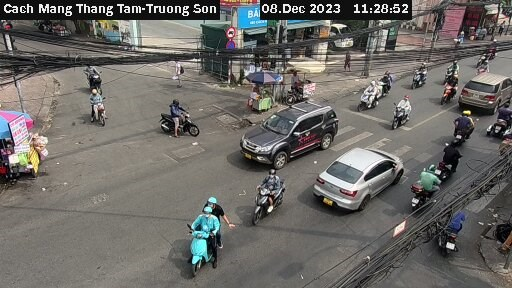car: (239, 98, 335, 170), (313, 145, 404, 213), (456, 70, 511, 114)
motorbike: (405, 163, 449, 214), (243, 178, 300, 216), (182, 218, 224, 267), (428, 142, 471, 186), (75, 97, 134, 128), (443, 109, 482, 148), (162, 109, 205, 144), (74, 66, 114, 97), (439, 213, 469, 254), (387, 99, 421, 134), (355, 84, 387, 121), (406, 58, 433, 92), (438, 56, 465, 84), (433, 73, 455, 105), (472, 51, 497, 73)
